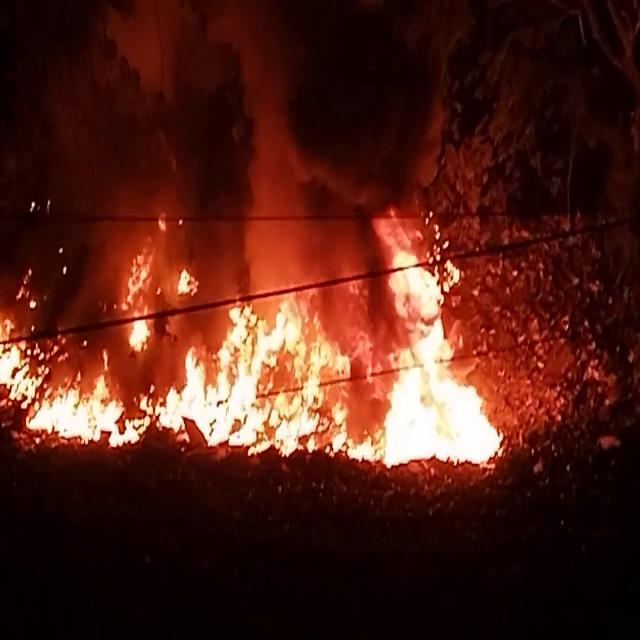Fire: (4, 226, 514, 466)
Smoke: (7, 0, 414, 277)
